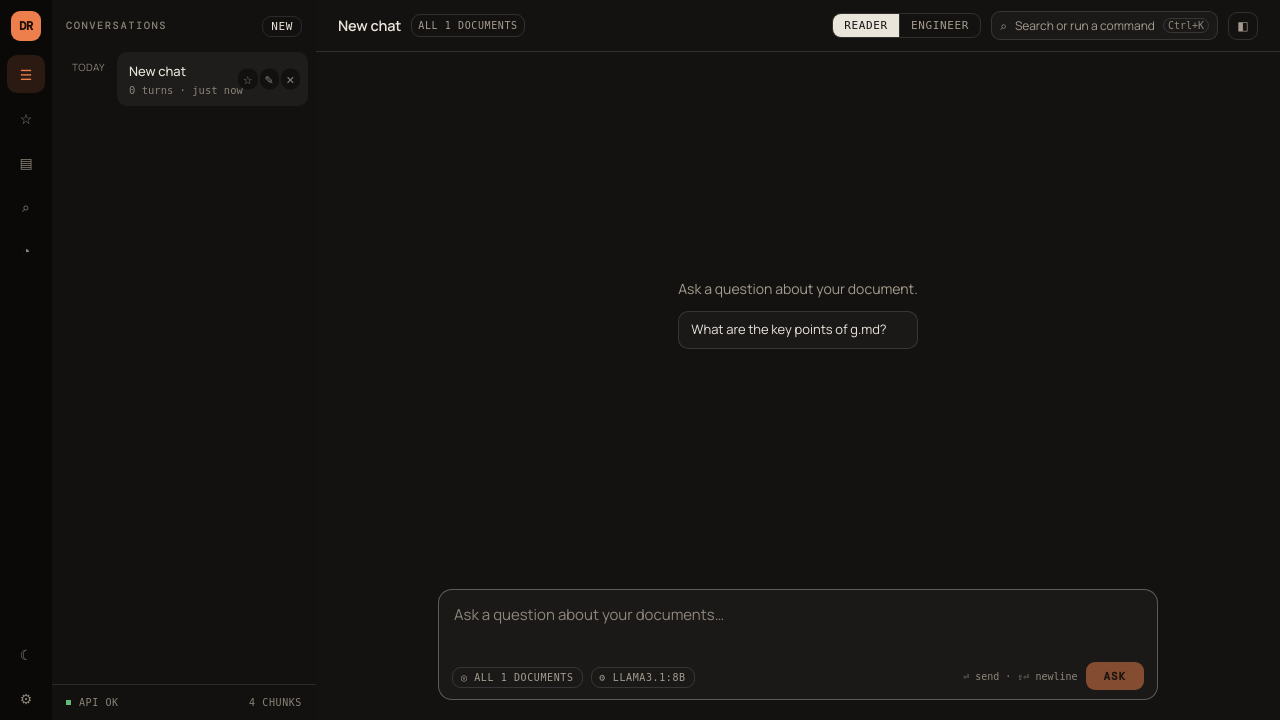
App › opens the inspector from the header toggle and closes it again
expect the text "api ok" is shown: met, box [79,695,119,710]
Click the button with test id "toggle-inspector": click(1243, 26) [1228,12,1258,40]
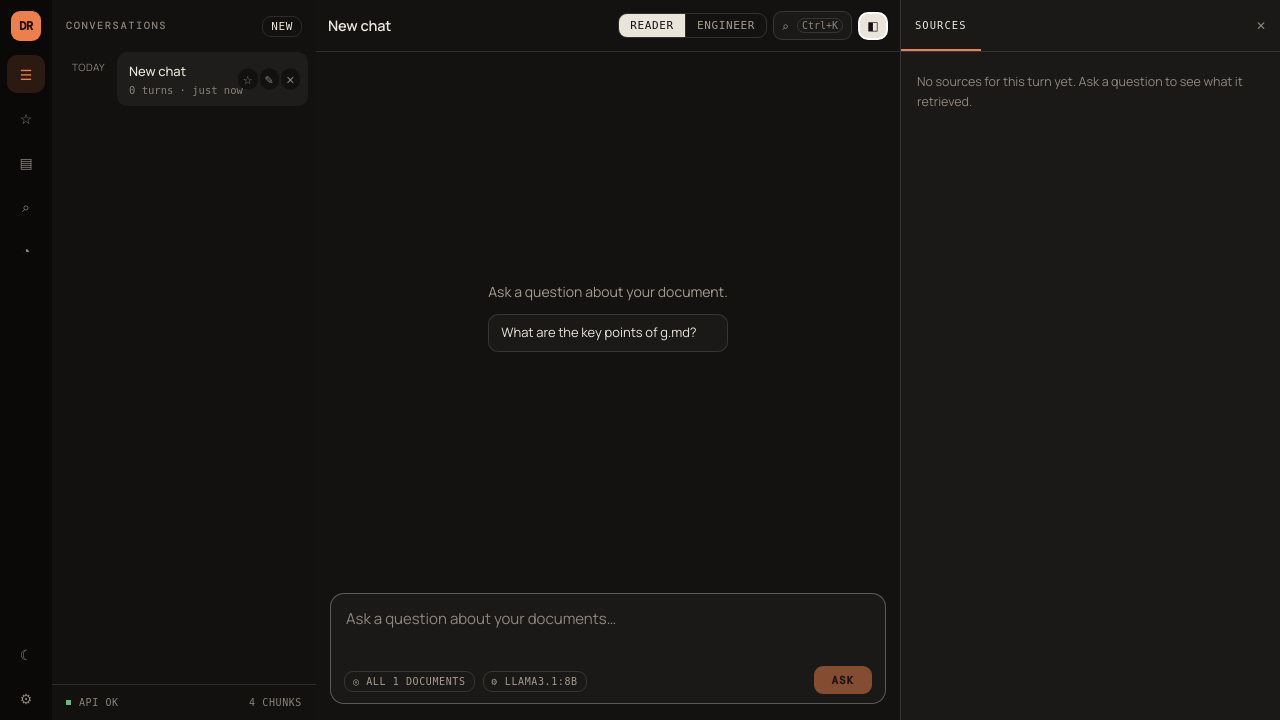
expect the element with test id "inspector" is shown: met, box [900,0,1279,719]
Click the button with test id "inspector-close": click(1261, 26) [1242,0,1279,51]
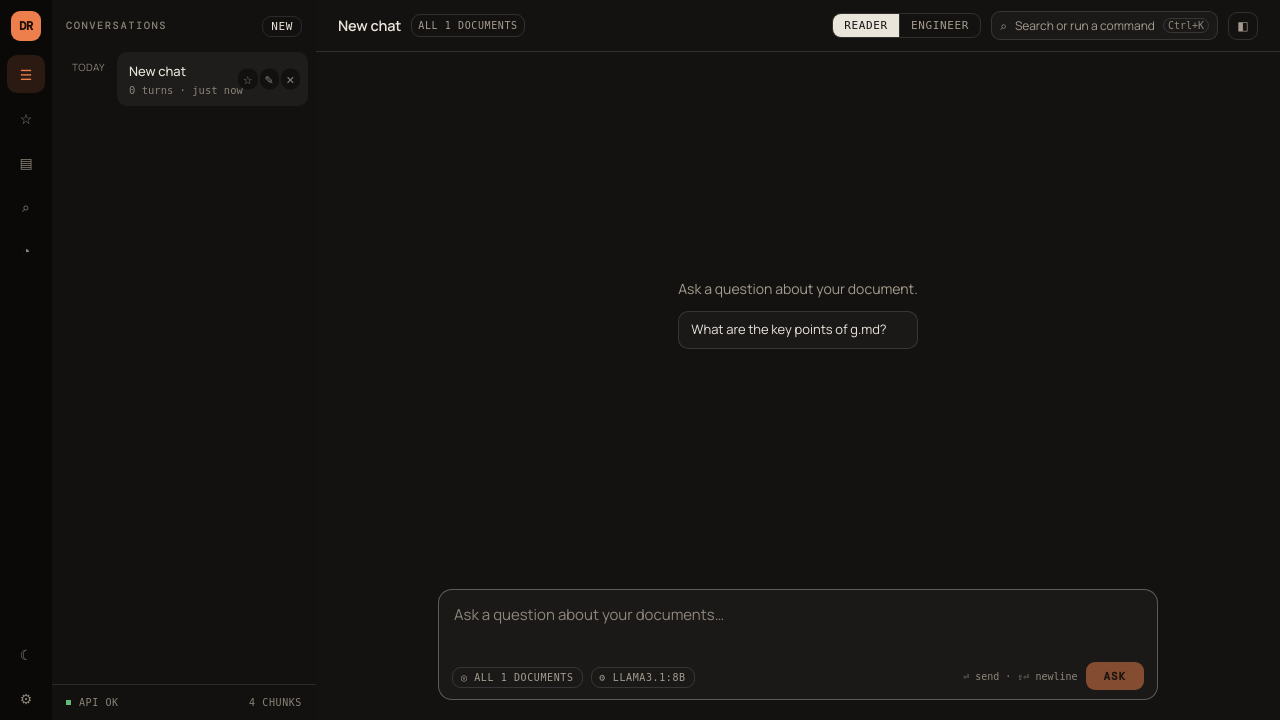
expect the button with test id "inspector" is gone: met
